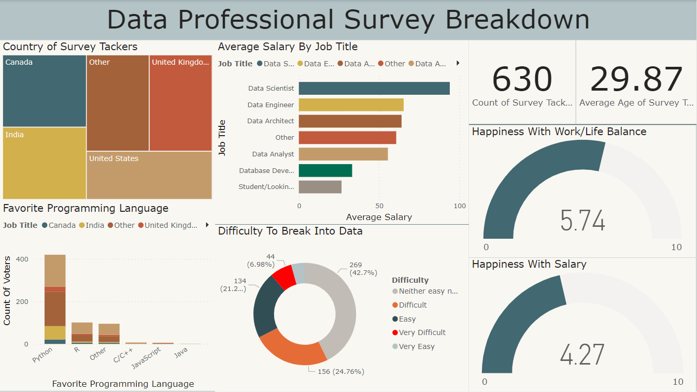

Layout of this report page (visuals, bound fields, positions):
{"tool":"powerbi","page":{"name":"Page 1","canvas":[1280,720],"ordinal":0},"visuals":[{"type":"textbox","box":[0,0,1280.6,74],"z":0},{"type":"card","fields":{"Values":["Count(Data Professional Survey.Unique ID)"]},"box":[861.7,74.3,196.1,154.1],"z":1000},{"type":"card","fields":{"Values":["Avg(Data Professional Survey.Q10 - Current Age)"]},"box":[1057.8,74.3,222.8,154.1],"z":2000},{"type":"barChart","title":"Average Salary By Job Title","fields":{"Category":["Data Professional Survey.Q1 - Which Title Best Fits your Current Role?.1"],"Y":["Avg(Data Professional Survey.Average Salary)"],"Series":["Data Professional Survey.Q1 - Which Title Best Fits your Current Role?.1"]},"box":[394.9,74,466.2,338.6],"z":3000},{"type":"columnChart","title":"Favorite Programming Language","fields":{"Category":["Data Professional Survey.Q5 - Favorite Programming Language.1"],"Y":["CountNonNull(Data Professional Survey.Unique ID)"],"Series":["Data Professional Survey.Q11 - Which Country do you live in?.1"]},"box":[0,371.6,394.9,348.2],"z":4000},{"type":"treemap","title":"Country of Survey Tackers","fields":{"Group":["Data Professional Survey.Q11 - Which Country do you live in?.1"],"Values":["Count(Data Professional Survey.Q11 - Which Country do you live in?.1)"]},"box":[0,74,394.9,297.5],"z":5000},{"type":"gauge","title":"Happiness With Work/Life Balance","fields":{"Y":["Avg(Data Professional Survey.Q6 - How Happy are you in your Current Position with the following? (Work/Life Balance))"],"MinValue":["Min(Data Professional Survey.Q6 - How Happy are you in your Current Position with the following? (Work/Life Balance))"],"MaxValue":["Max(Data Professional Survey.Q6 - How Happy are you in your Current Position with the following? (Work/Life Balance))1"]},"box":[861.7,229.8,417.5,243.8],"z":6000},{"type":"gauge","title":"Happiness With Salary","fields":{"Y":["Avg(Data Professional Survey.Q6 - How Happy are you in your Current Position with the following? (Salary))"],"MinValue":["Min(Data Professional Survey.Q6 - How Happy are you in your Current Position with the following? (Salary))"],"MaxValue":["Max(Data Professional Survey.Q6 - How Happy are you in your Current Position with the following? (Salary))"]},"box":[861.7,473.6,417.5,246.6],"z":7000},{"type":"donutChart","title":"Difficulty To Break Into Data","fields":{"Category":["Data Professional Survey.Q7 - How difficult was it for you to break into Data?"],"Y":["CountNonNull(Data Professional Survey.Q7 - How difficult was it for you to break into Data?)"]},"box":[395.1,413.3,466.6,306.8],"z":8000}]}

Visuals, with their boxes in screenshot pixels (x1, y1, x2, y2), scaled from the page's 1280x720 canvas onto the 697x392 screenshot:
textbox: 0 0 696 40
card - Count(Data Professional Survey.Unique ID): 469 40 576 124
card - Avg(Data Professional Survey.Q10 - Current Age): 576 40 696 124
"Average Salary By Job Title" barChart: 215 40 469 225
"Favorite Programming Language" columnChart: 0 202 215 391
"Country of Survey Tackers" treemap: 0 40 215 202
"Happiness With Work/Life Balance" gauge: 469 125 696 258
"Happiness With Salary" gauge: 469 258 696 391
"Difficulty To Break Into Data" donutChart: 215 225 469 391
